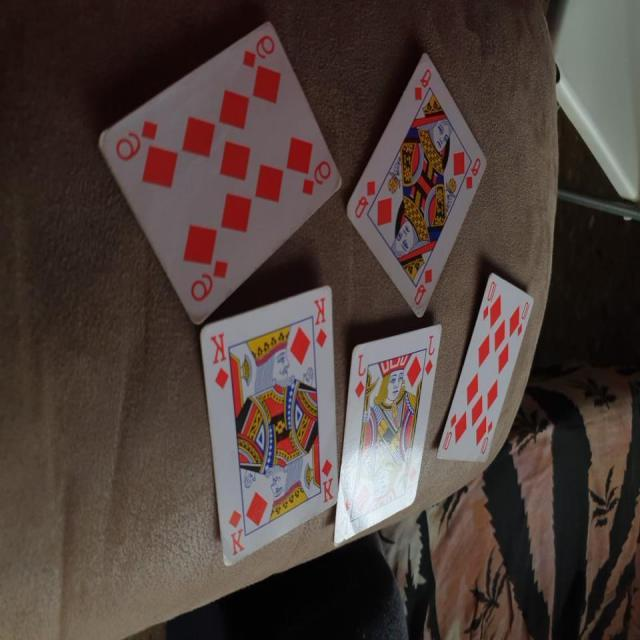10 of diamonds: (434, 270, 537, 467)
9 of diamonds: (94, 24, 344, 329)
jack of diamonds: (331, 326, 443, 547)
king of diamonds: (198, 282, 340, 568)
queen of diamonds: (346, 48, 488, 320)
